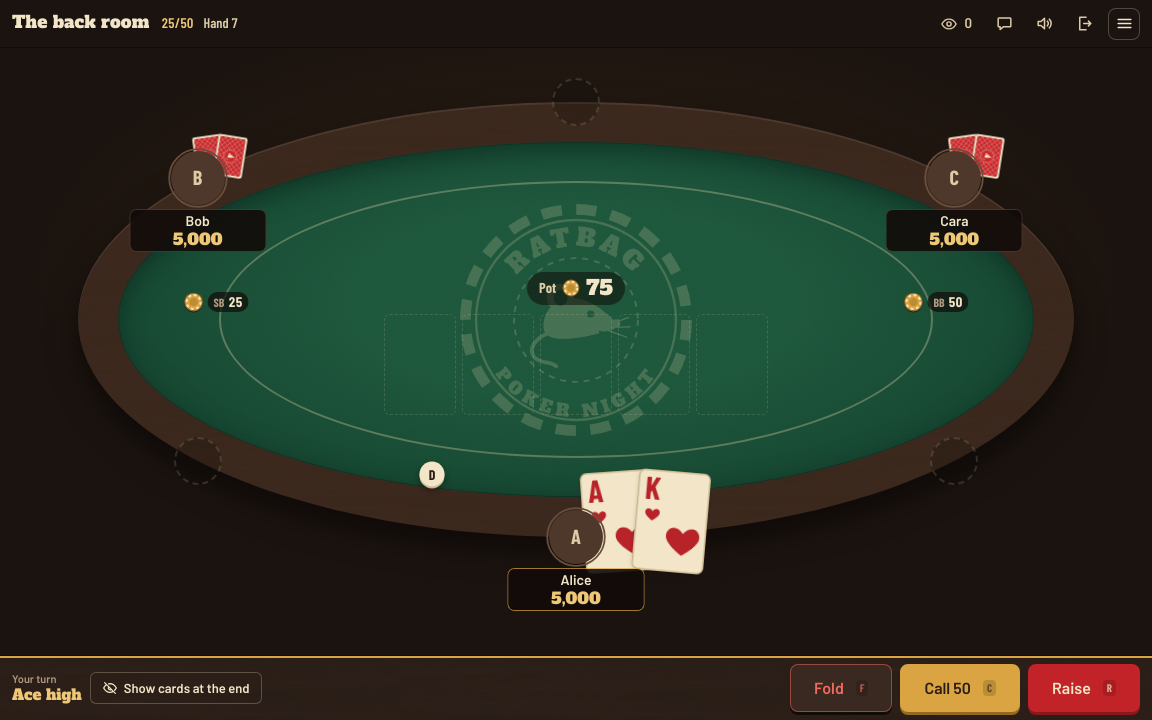
action bar › says all-in when the largest raise is your whole stack
Step 1. Click the button "Raise R" → (1084, 688), box left=1028, top=664, right=1140, bottom=712
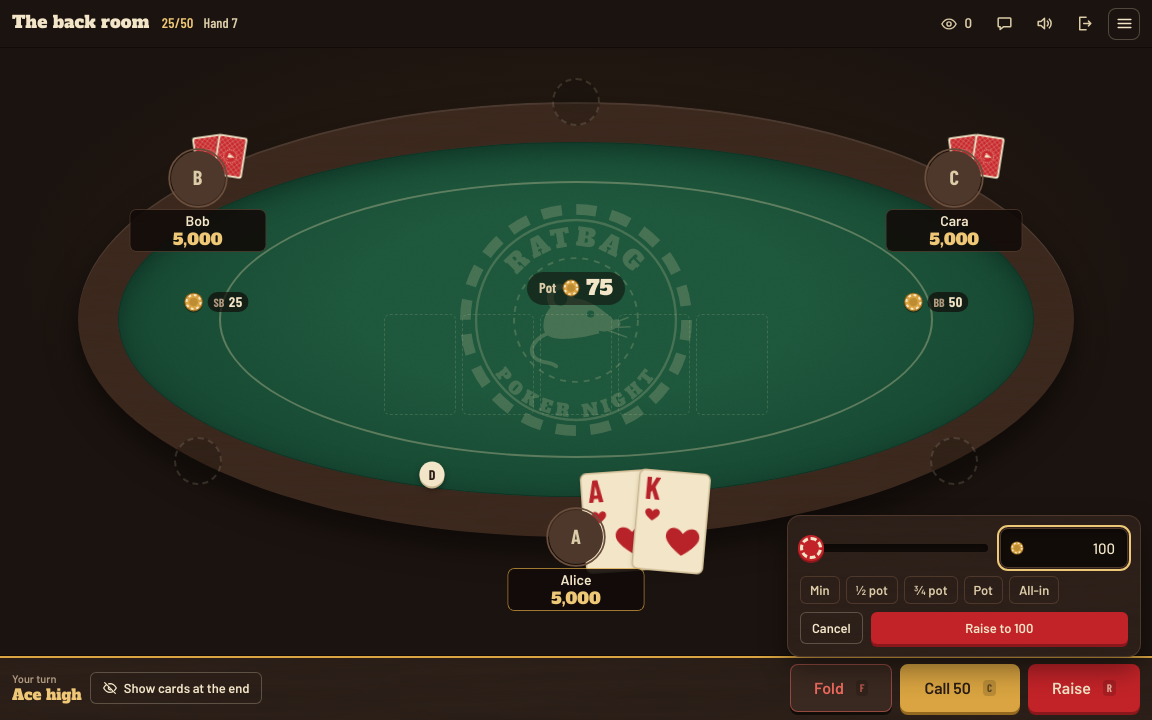
Check: the button "All-in" is shown
Step 2. Click the button "All-in" → (1034, 590), box left=1009, top=576, right=1059, bottom=604
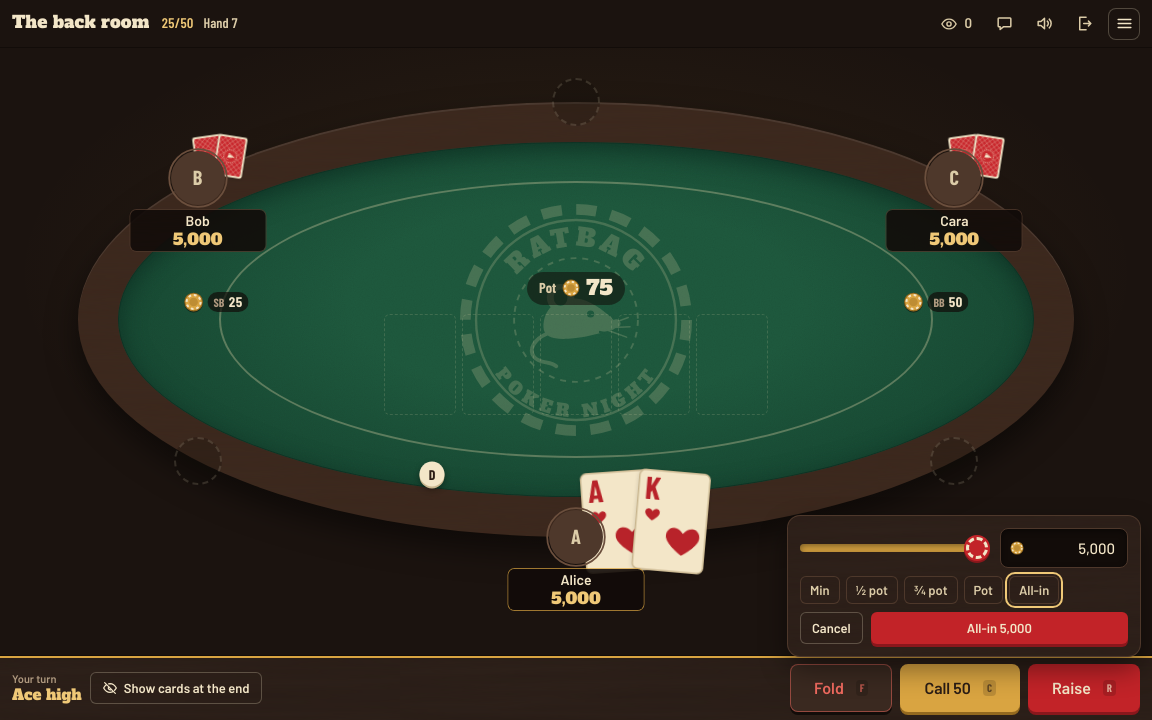
Check: the button "All-in 5,000" is shown, box left=871, top=612, right=1128, bottom=644
